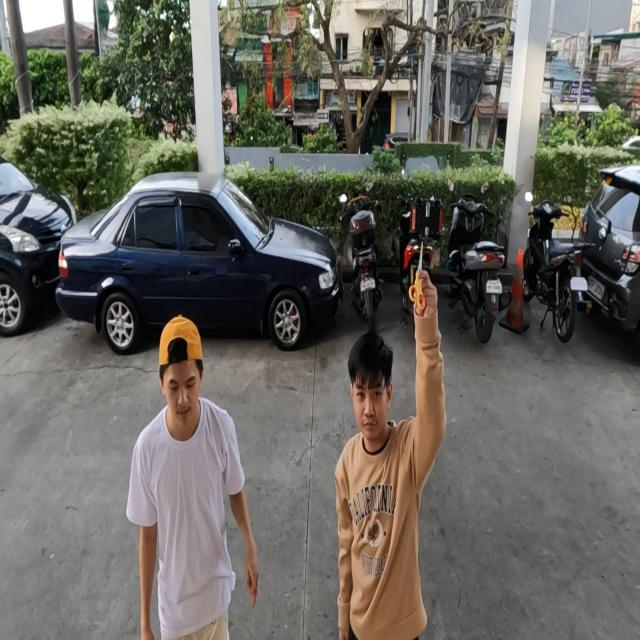scissor: (408, 236, 428, 312)
